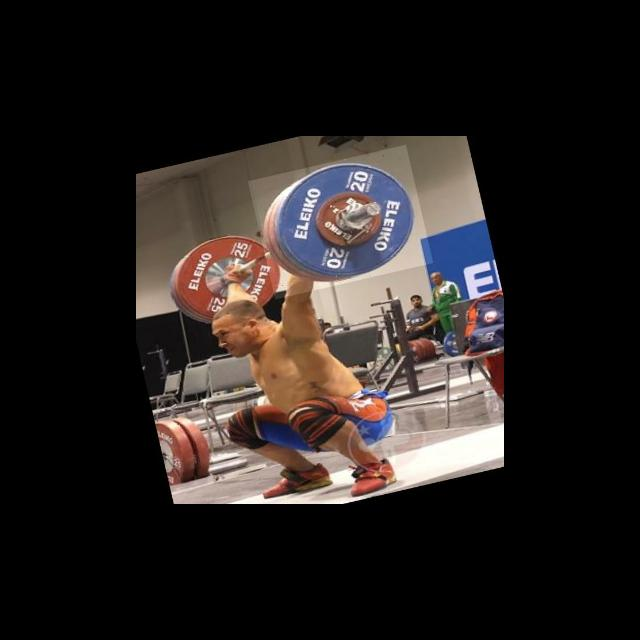barbell: (248, 145, 433, 299)
